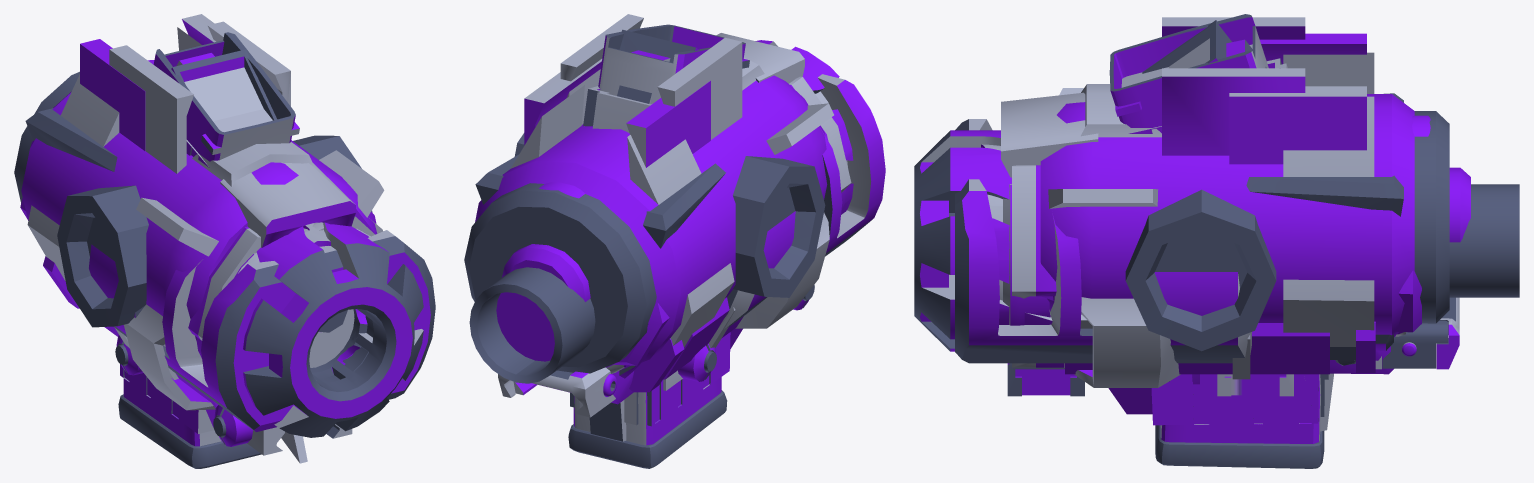
File: Smg_Parts.FBX
3 renders of one model, left to right at view 1: azimuth 30°, elevation 25°; view 2: azimuth 150°, elevation 25°; view 3: azimuth 270°, elevation 25°, orthographic. The views are drawn at different scales.
Visible parts, largest first — view 1: Smg_Lazer-4, SMGi_Muzzle-5, SMG_Muzzle-3, Smg_Lazer-2, Smg_Magzine-2, Smg_Lazer-3, SMG_Scope-4, Smg_Magzine-3, Smg_Magzine-5, SMG_Scope-5, SMG_Muzzle-4, Smg_Lazer-5; view 2: Smg_Lazer-4, Smg_Lazer-2, SMG_Muzzle-3, Smg_Magzine-2, Smg_Lazer-3, SMGi_Muzzle-5, Smg_Magzine-5, SMG_Scope-4, Smg_Lazer-5, Smg_Magzine-3, SMG_Scope-5, Smg_Lazer-1; view 3: Smg_Lazer-4, Smg_Lazer-2, SMGi_Muzzle-5, SMG_Muzzle-3, Smg_Lazer-3, Smg_Magzine-2, SMG_Scope-4, Smg_Lazer-5, Smg_Magzine-5, SMG_Scope-5, Smg_Magzine-3, SMGi_Muzzle-2 (+1 smaller).
Boxes of the visible parts, x1,y1,x2,y2 form: Smg_Lazer-4: (14,21,377,340); SMGi_Muzzle-5: (196,222,423,437); SMG_Muzzle-3: (89,218,435,431); Smg_Lazer-2: (20,27,374,427); Smg_Magzine-2: (118,32,299,468); Smg_Lazer-3: (25,14,384,463); SMG_Scope-4: (115,162,355,455); Smg_Magzine-3: (171,49,277,121); Smg_Magzine-5: (120,140,214,433); SMG_Scope-5: (309,309,354,367); SMG_Muzzle-4: (303,223,367,379); Smg_Lazer-5: (43,256,218,407); Smg_Lazer-4: (464,14,827,373); Smg_Lazer-2: (511,57,851,365); SMG_Muzzle-3: (496,74,885,361); Smg_Magzine-2: (568,24,749,468); Smg_Lazer-3: (475,59,833,248); SMGi_Muzzle-5: (469,40,853,383); Smg_Magzine-5: (570,86,730,426); SMG_Scope-4: (539,33,814,390); Smg_Lazer-5: (629,297,743,392); Smg_Magzine-3: (589,29,698,441); SMG_Scope-5: (498,367,616,417); Smg_Lazer-1: (539,371,633,404); Smg_Lazer-4: (1040,17,1470,351); Smg_Lazer-2: (1012,52,1421,414); SMGi_Muzzle-5: (914,130,1519,351); SMG_Muzzle-3: (955,119,1251,363); Smg_Lazer-3: (1048,33,1403,328); Smg_Magzine-2: (1109,14,1324,468); SMG_Scope-4: (1001,92,1430,396); Smg_Lazer-5: (1065,321,1375,379); Smg_Magzine-5: (1129,58,1324,425); SMG_Scope-5: (1375,297,1459,369); Smg_Magzine-3: (1142,20,1333,431); SMGi_Muzzle-2: (1003,184,1050,325).
Bounding box in the file's own units: 6.83 × 10.34 × 13.66.
2 materials, 2 textured.
